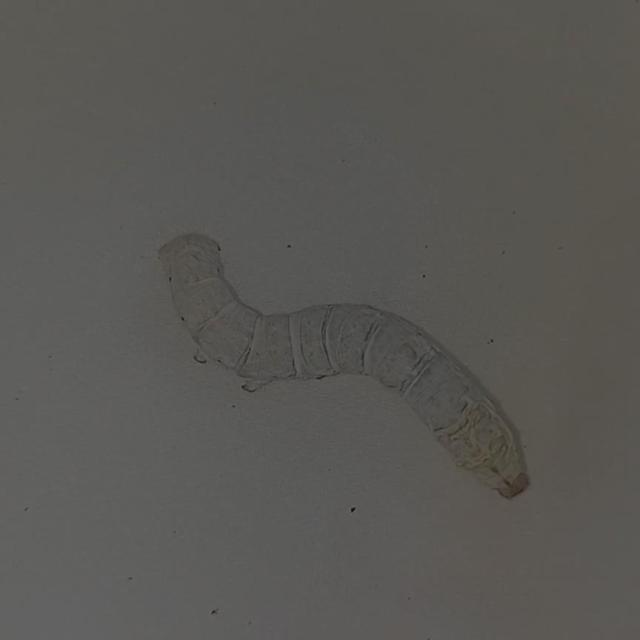Healthy: (147, 225, 536, 506)
